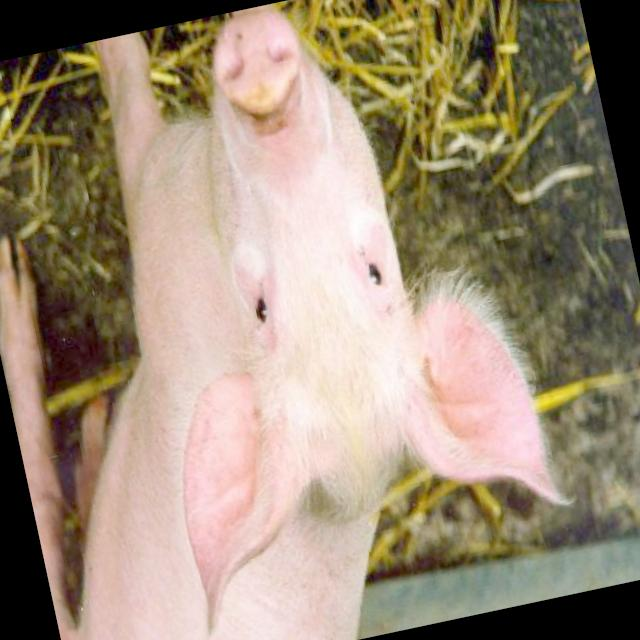pig: (0, 3, 560, 640)
